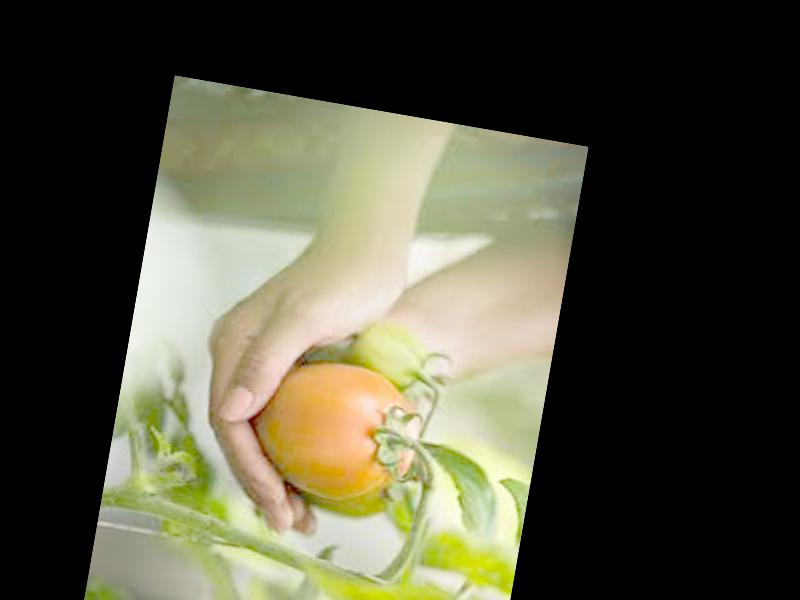Tomato: (252, 352, 427, 509)
